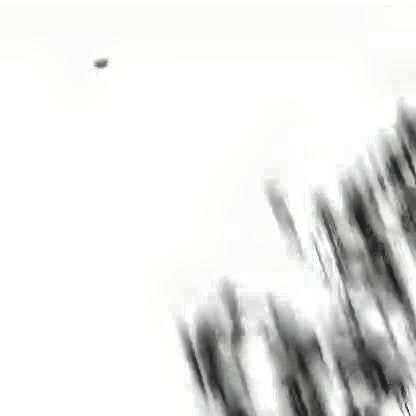golfball: (90, 54, 108, 67)
